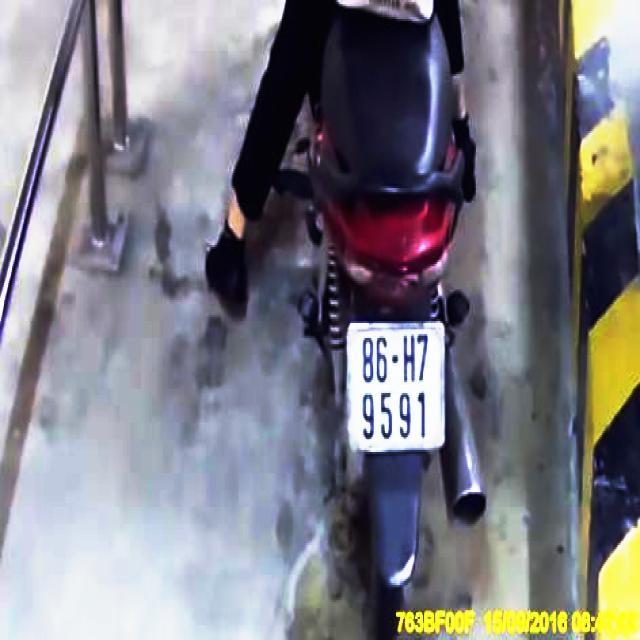license_plate: (350, 322, 447, 455)
